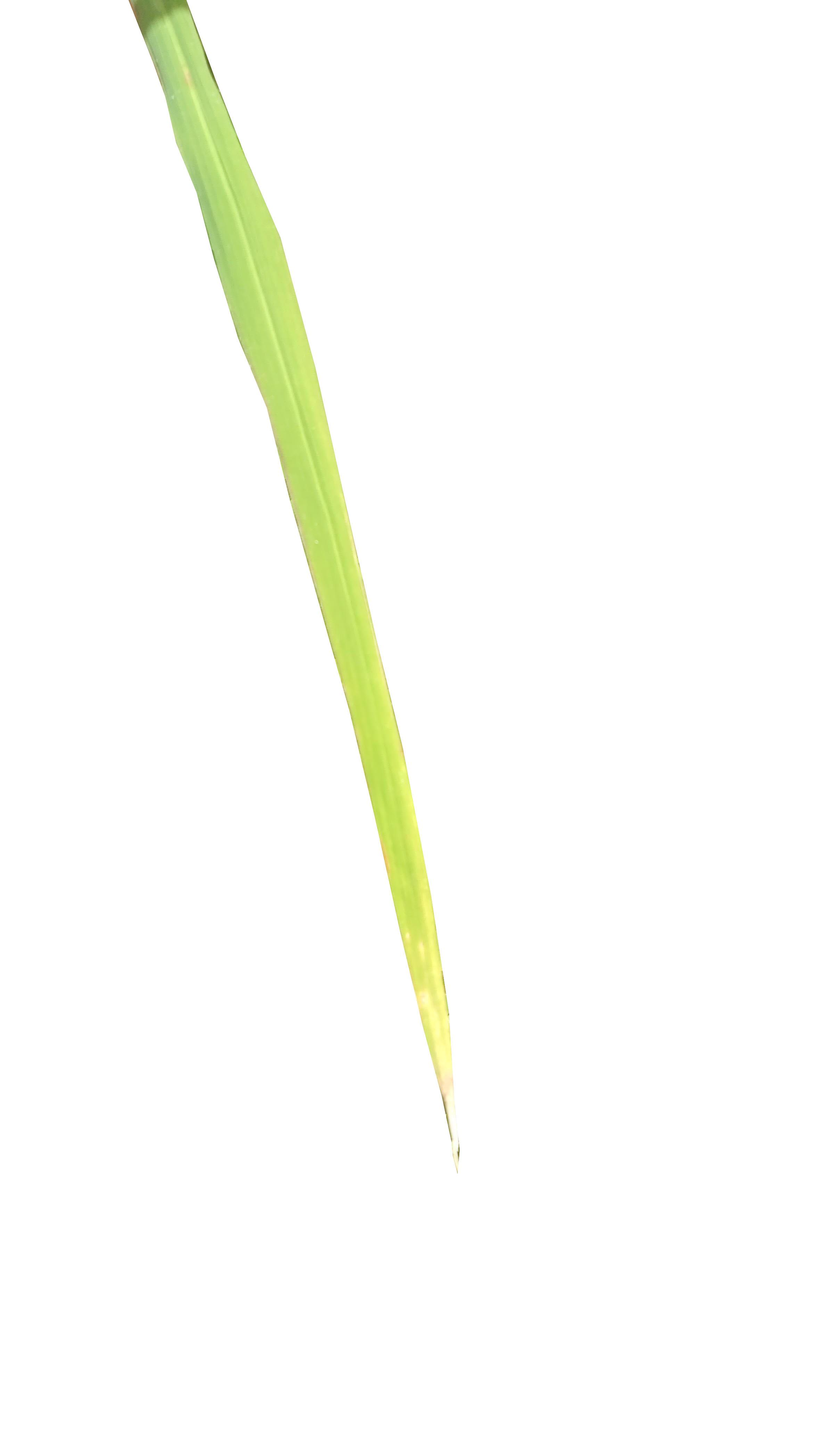Tungro: (132, 0, 452, 1119)
